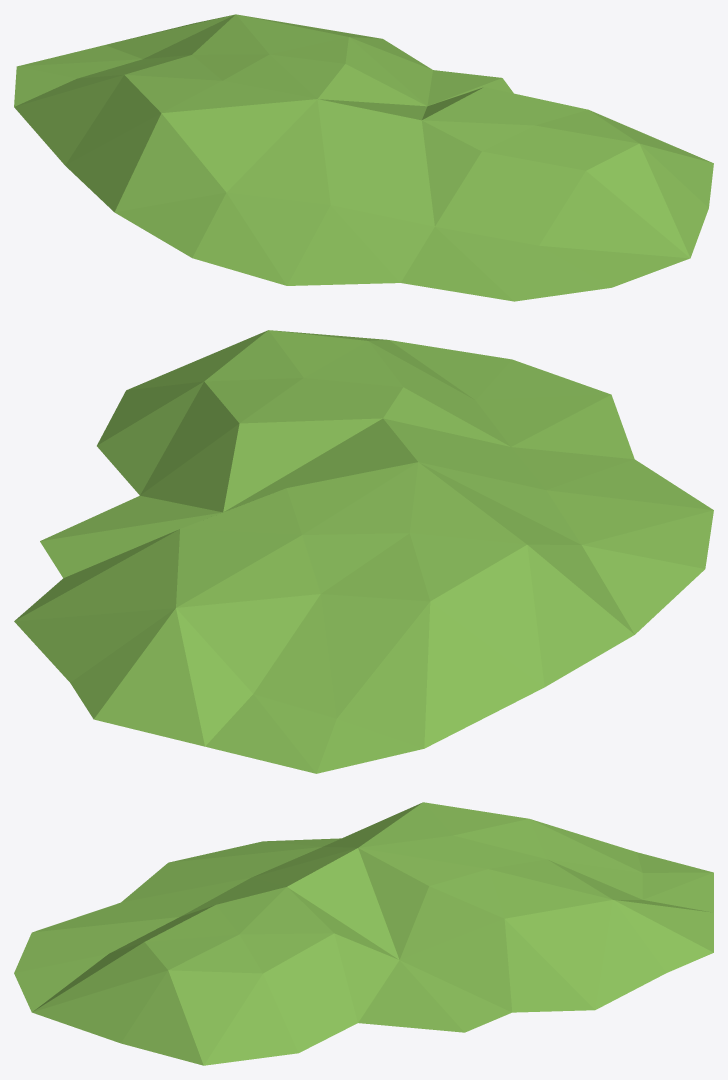
File: MT_Mountain_S_b_09_LOD.fbx
3 views of the same model, one above another, from view 1: azimuth 30°, elevation 25°; view 2: azimuth 150°, elevation 25°; view 3: azimuth 270°, elevation 25° (orthographic). The views are drawn at different scales.
Visible parts, largest first — view 1: MT_Mountain_S_b_09_LOD0; view 2: MT_Mountain_S_b_09_LOD0; view 3: MT_Mountain_S_b_09_LOD0.
Boxes of the visible parts, box(x1,y1,x2,y2) form: MT_Mountain_S_b_09_LOD0: box(14, 14, 713, 301); MT_Mountain_S_b_09_LOD0: box(14, 330, 713, 773); MT_Mountain_S_b_09_LOD0: box(14, 802, 713, 1065).
Size of what is drawn, in the model's own units: 1777 by 273 by 2305.
